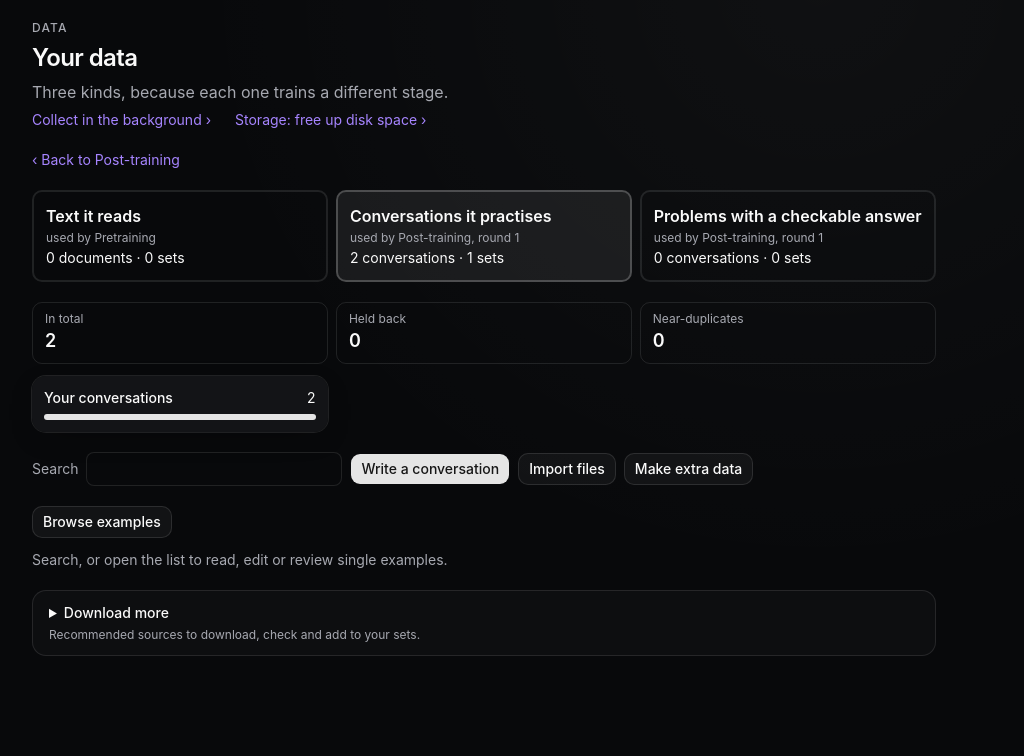
Test: Your data page › a file in a folder on the server is picked and imported
Click the button "Import files": (567, 469) [518,453,616,485]
(page scrolled)
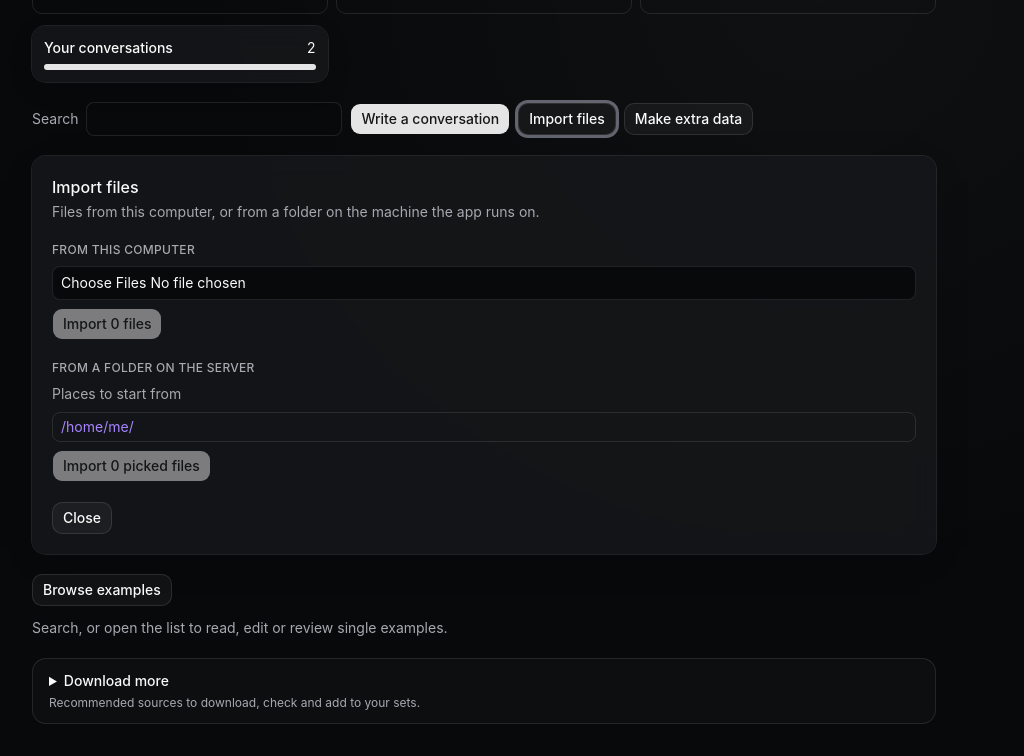
Click the button "/home/me/": (95, 426) [61,417,907,437]
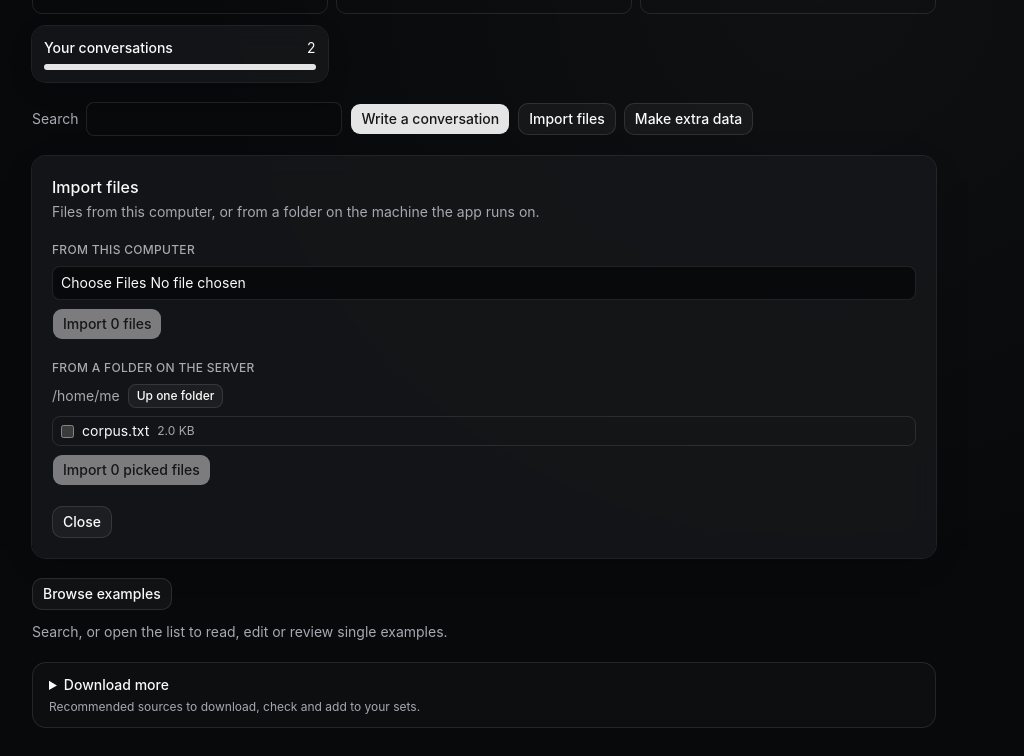
Click the checkbox: (68, 431) [61,424,74,438]
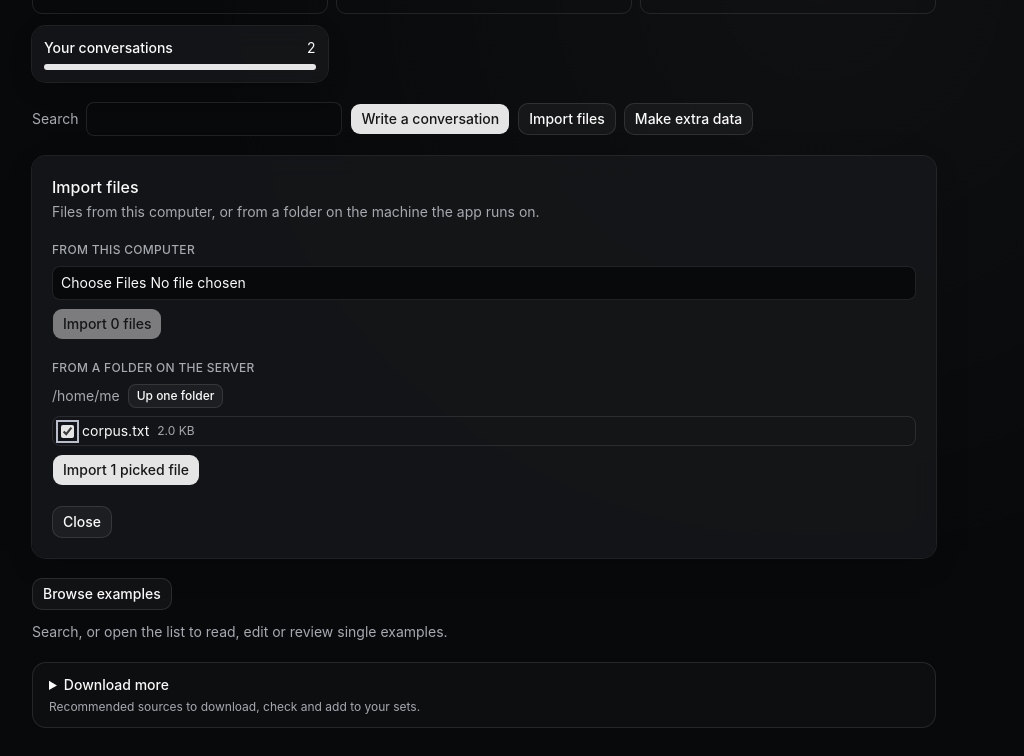
Click the button "Import 1 picked file": (126, 470) [52,454,200,486]
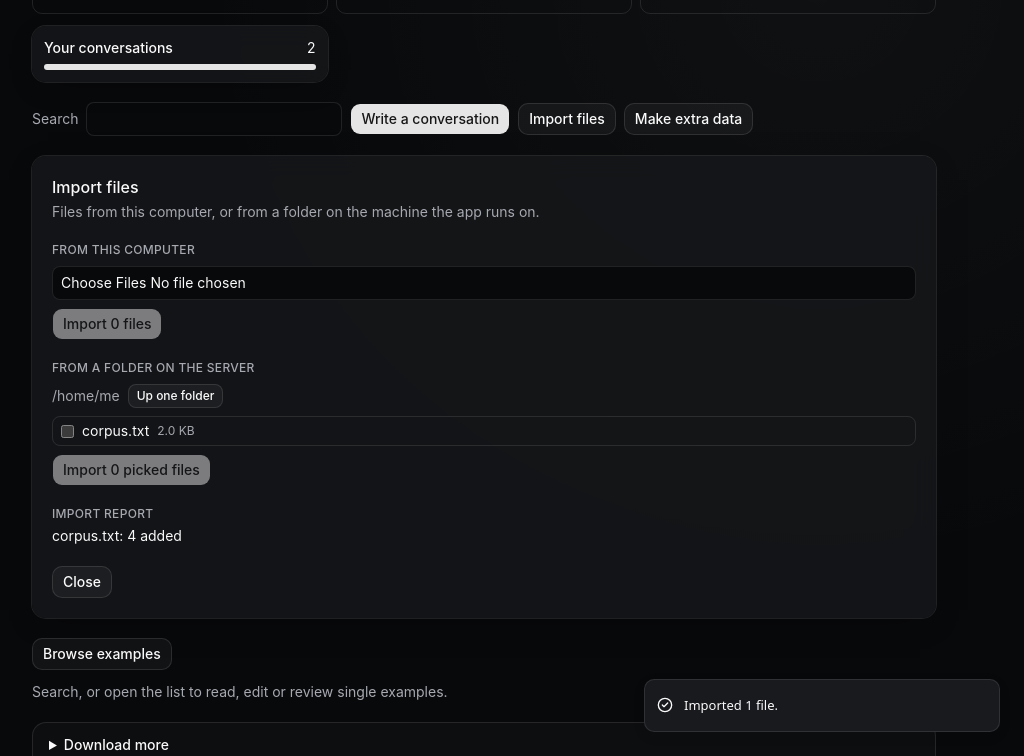
expect the element with test id "import-report" shows "corpus.txt: 4 added": met, box [52,527,182,544]
